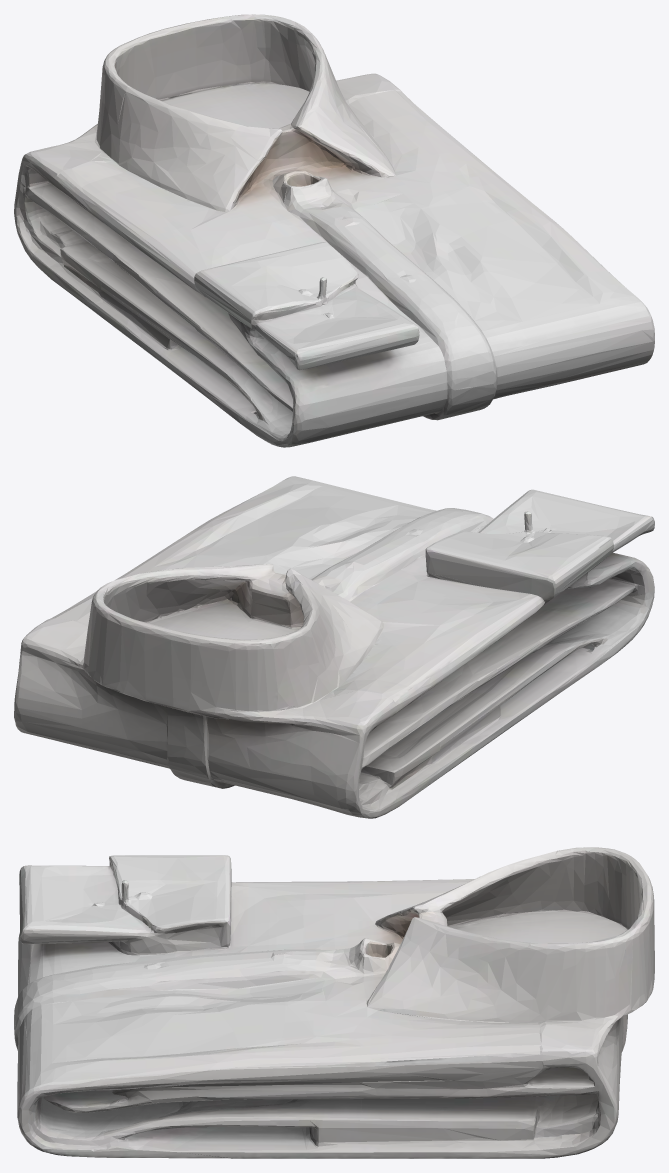
3 views of the same model, one above another, from view 1: azimuth 30°, elevation 25°; view 2: azimuth 150°, elevation 25°; view 3: azimuth 270°, elevation 25° (orthographic). The views are drawn at different scales.
Parts seen in each view (by area): view 1: geometry_0; view 2: geometry_0; view 3: geometry_0.
Boxes of the visible parts, bbox=[...] form: geometry_0: bbox=[14, 14, 654, 447]; geometry_0: bbox=[14, 476, 654, 818]; geometry_0: bbox=[14, 847, 654, 1158].
Size of the model in its own units: 0.6741 by 0.3246 by 0.9989.
Materials: 1 (1 with a texture image).
